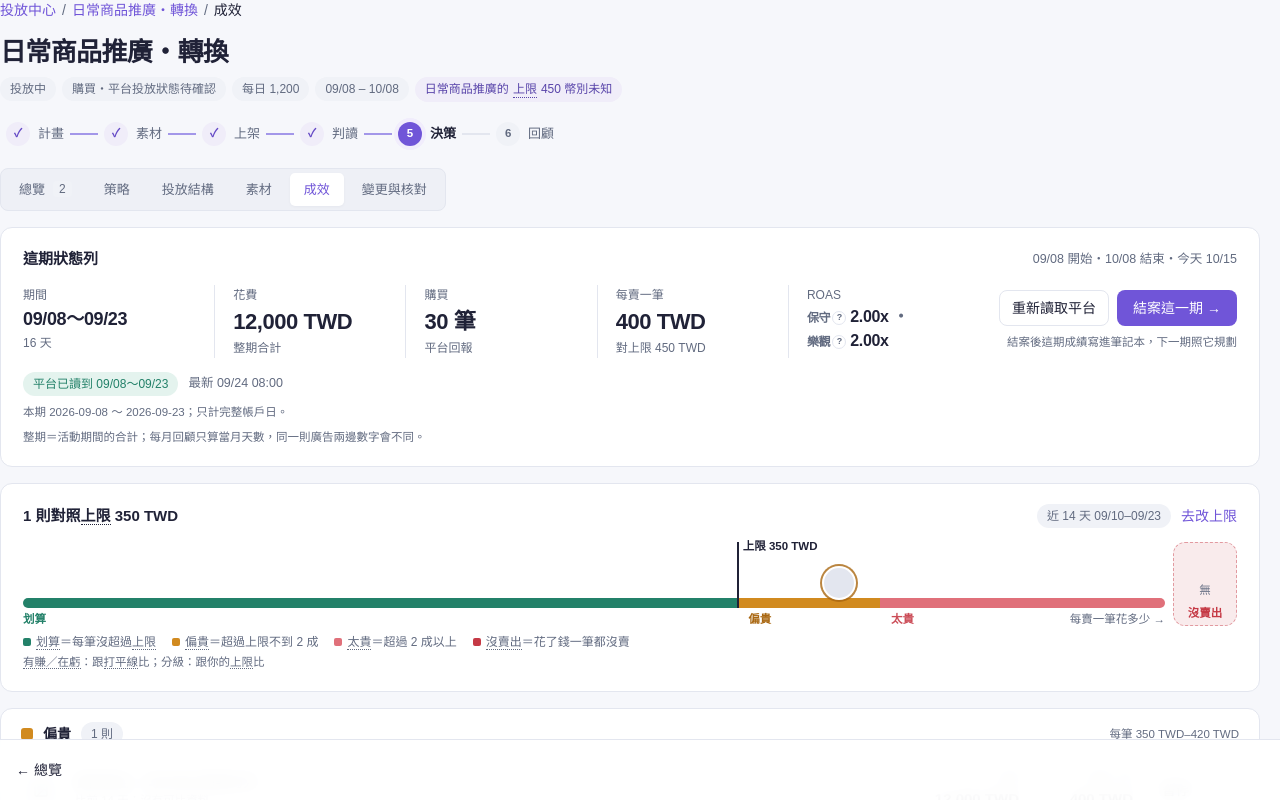
Test: F52 actual composed settlement › keeps explicit rejected_post recovery in the real composed screen
Step 1. Click the button "重新讀取平台" → (1054, 308), box [999,290,1109,326]
(page scrolled)
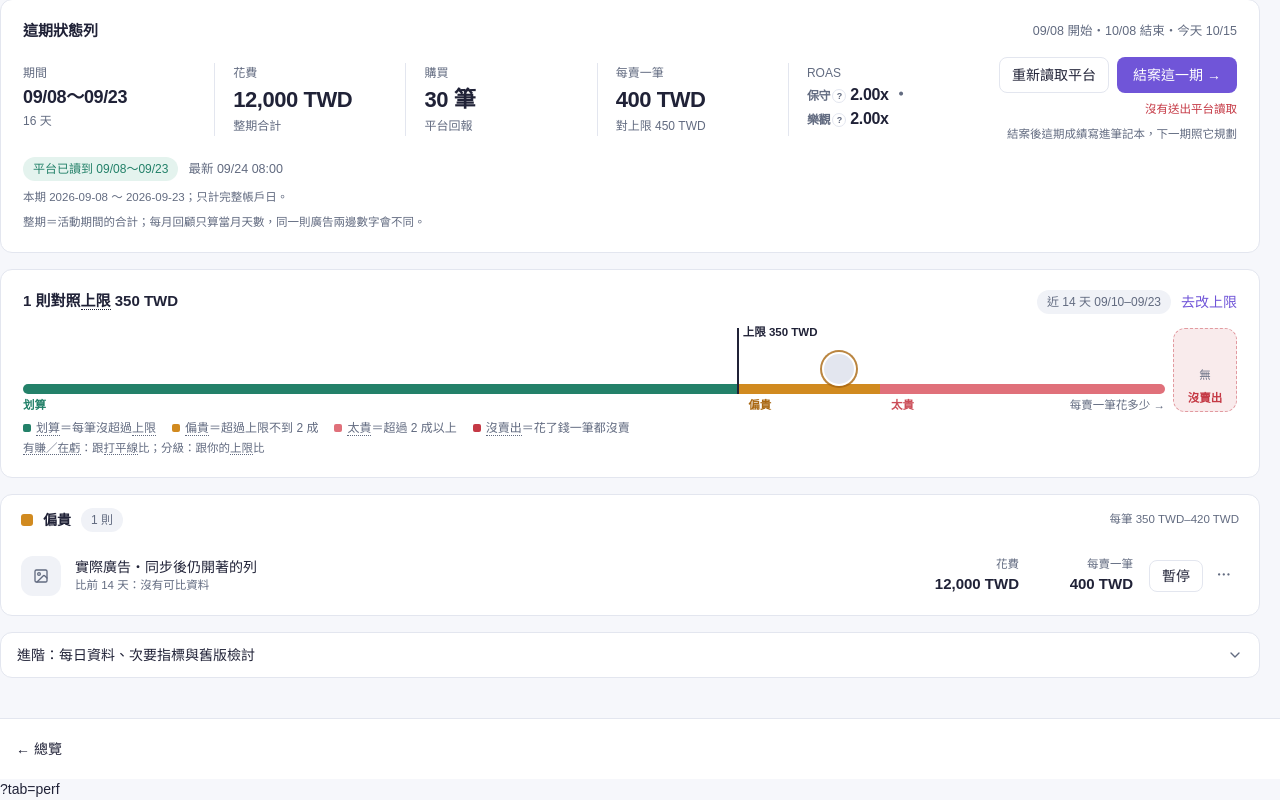
Expected: the button "重新讀取平台" is shown, [999,56,1109,92]
Expected: the text "沒有送出平台讀取" is shown, [1145,100,1237,118]
